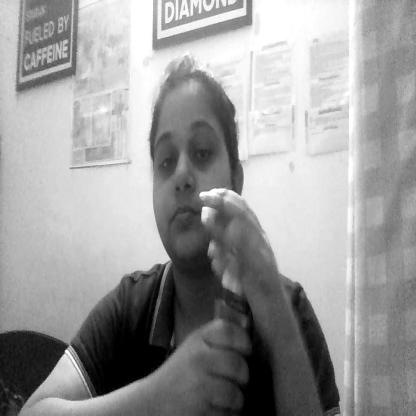Normal: (147, 71, 238, 278)
